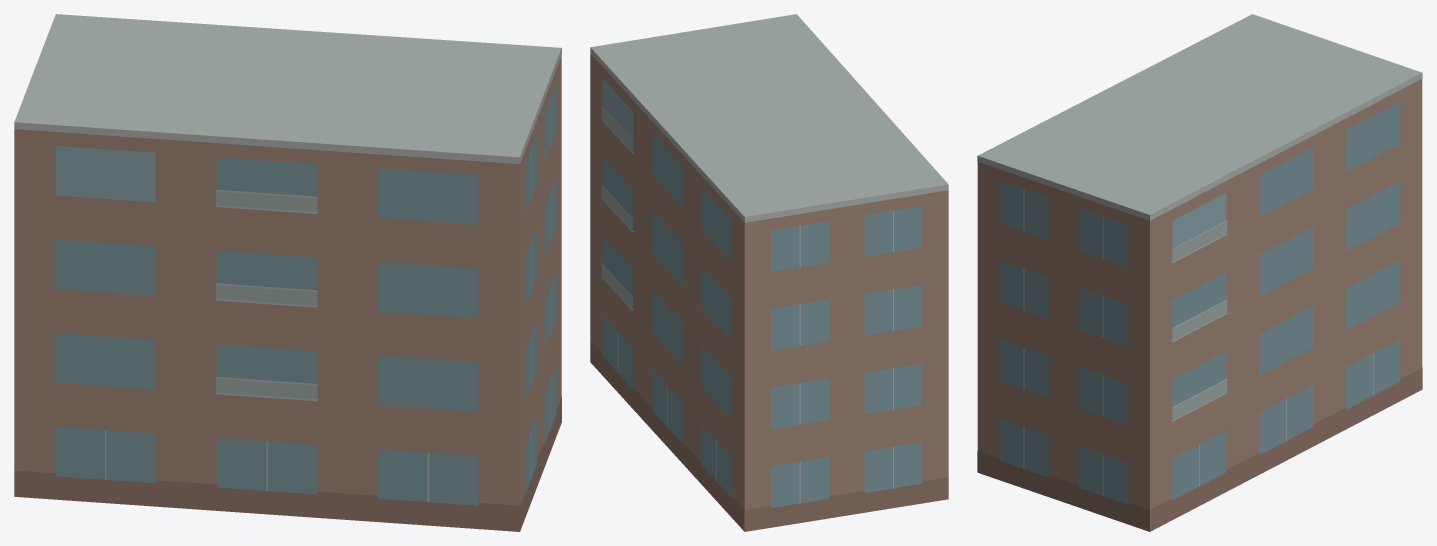
File: survey-upis-32855266.glb
3 renders of one model, left to right at view 1: azimuth 30°, elevation 25°; view 2: azimuth 150°, elevation 25°; view 3: azimuth 270°, elevation 25°, orthographic. The views are drawn at different scales.
Visible parts, largest first — view 1: survey-upis-32855266.tmp; view 2: survey-upis-32855266.tmp; view 3: survey-upis-32855266.tmp.
Part boxes in pixels (x1,y1,x2,y2): survey-upis-32855266.tmp: (14,14,561,531); survey-upis-32855266.tmp: (590,14,948,531); survey-upis-32855266.tmp: (977,14,1422,531).
Bounding box in the file's own units: 18.16 × 13.34 × 16.99.
